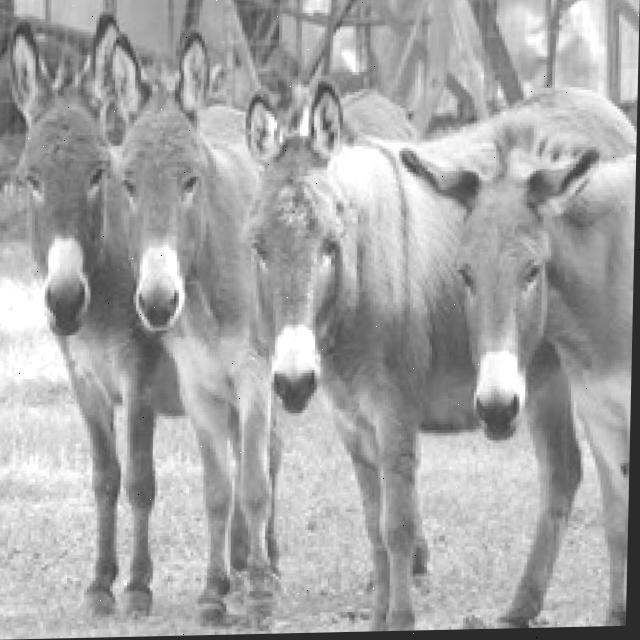Donkey: (0, 5, 417, 631), (389, 83, 635, 628), (94, 25, 291, 635), (0, 7, 188, 626)
